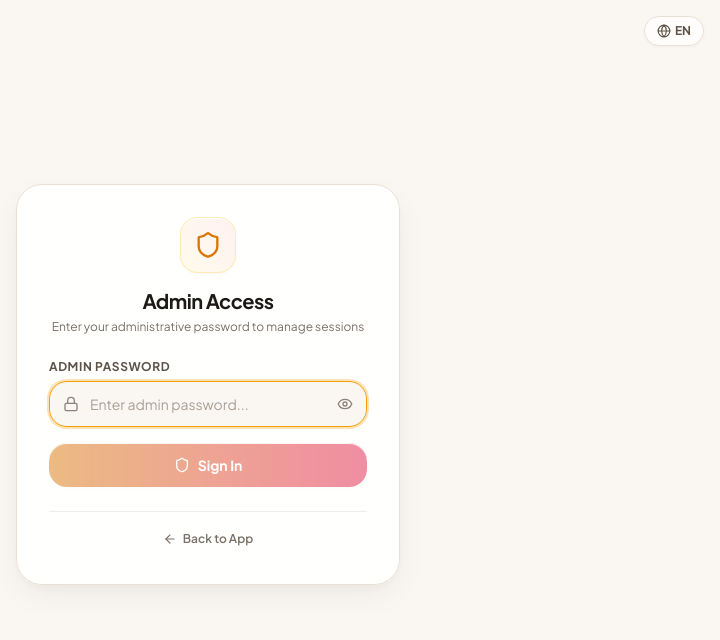
Test case: Admin UI Components (AdminPage) › handles invalid password error and displays attempts remaining
In the password field with placeholder "Enter admin password...": (208, 404) [49, 380, 367, 426], type "wrongpass"
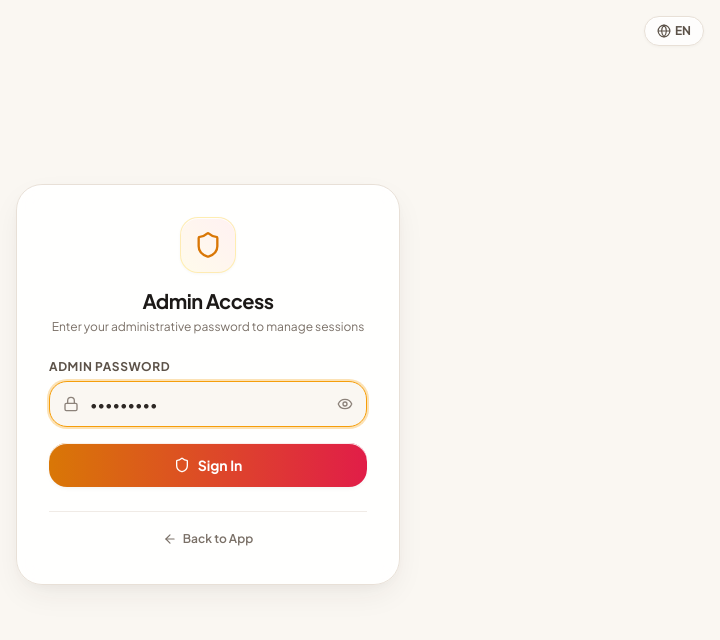
Click the button "Sign In": click(208, 464) [49, 442, 367, 486]
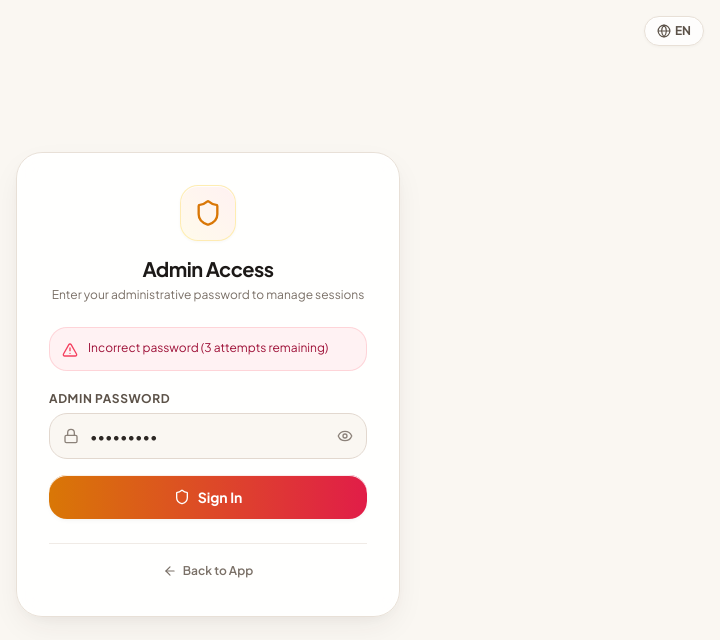
Check: the text "Incorrect password (3 attempts remaining)" is shown, box [88, 340, 328, 354]
